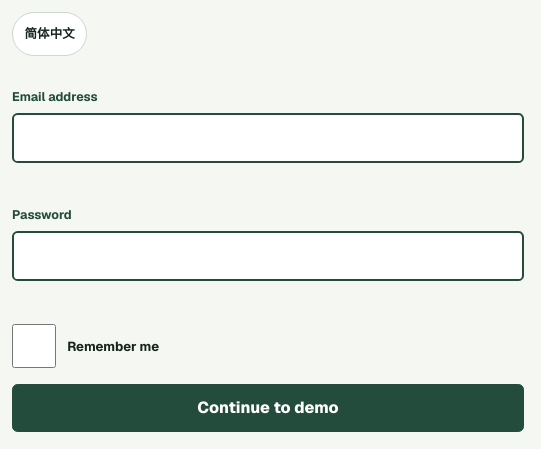
Test: LoginForm › switches the complete form to Simplified Chinese without exposing English copy
The width and height of the screenshot is (541, 449).
What coordinates should you click on to do the following:
click the button "简体中文"
I would click on:
 (50, 34)
Its box is [12,12,87,56].
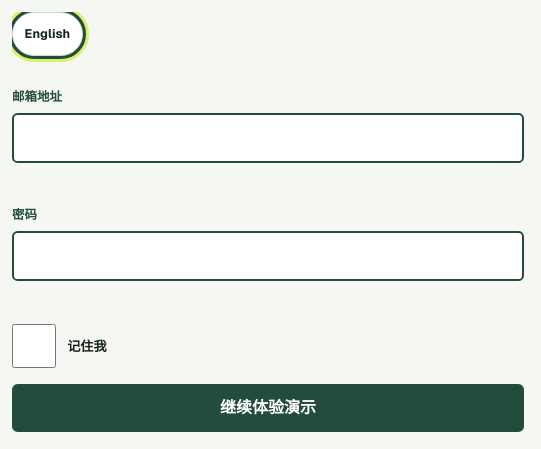
expect the field labelled "邮箱地址" is shown: met, box [12,113,524,163]
expect the button "继续体验演示" is shown: met, box [12,384,524,432]
expect the text "Email address" is gone: met
